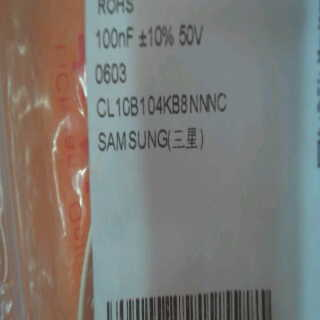100nF: (92, 25, 133, 50)
